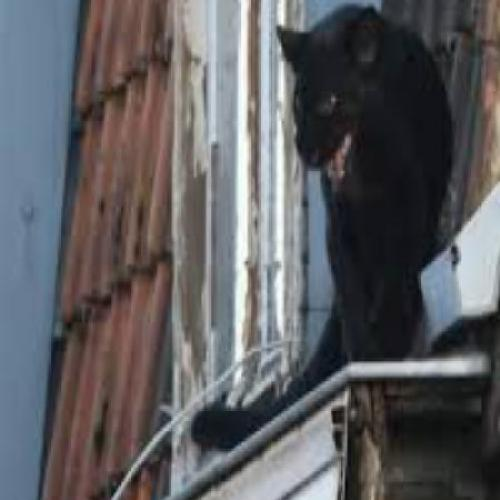panther-endangered: (190, 8, 450, 453)
